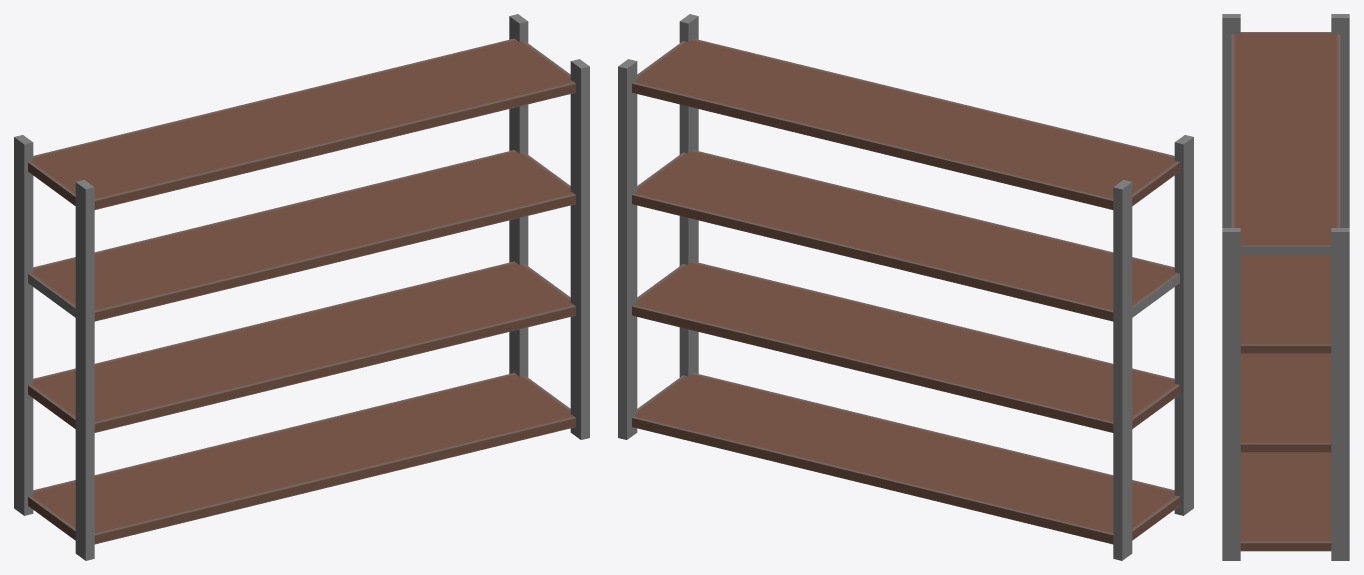
File: Shelf.fbx
3 renders of one model, left to right at view 1: azimuth 30°, elevation 25°; view 2: azimuth 150°, elevation 25°; view 3: azimuth 270°, elevation 25°, orthographic. The views are drawn at different scales.
Visible parts, largest first — view 1: cube; view 2: cube; view 3: cube.
Part boxes in pixels (x1,y1,x2,y2): cube: (14, 14, 589, 560); cube: (618, 14, 1193, 560); cube: (1222, 14, 1349, 560).
Size of the model in its own units: 88.75 by 62.5 by 21.88.
Materials: 1 (1 with a texture image).
